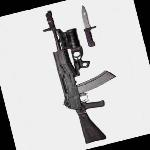Pisau: (74, 0, 102, 50)
Senapan: (35, 6, 118, 144)
